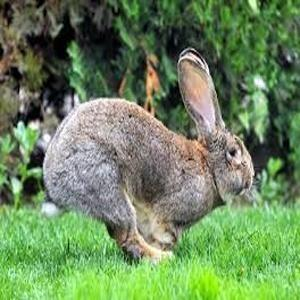rabbit: (43, 47, 254, 258)
